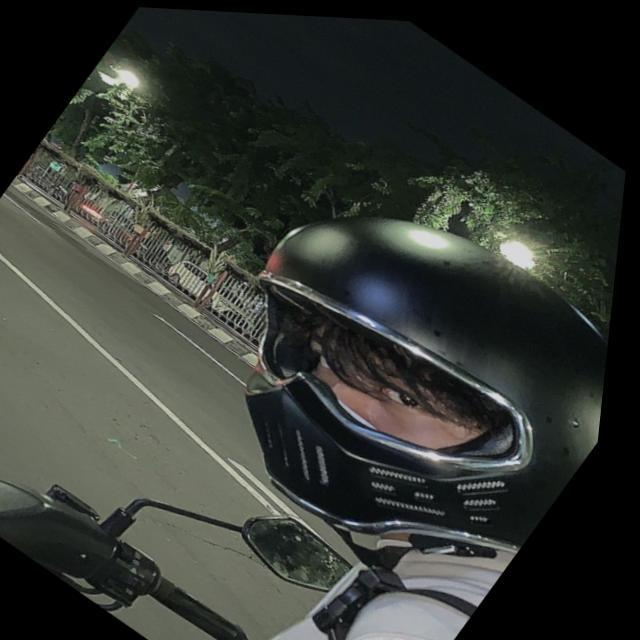Helmet: (238, 195, 616, 555)
